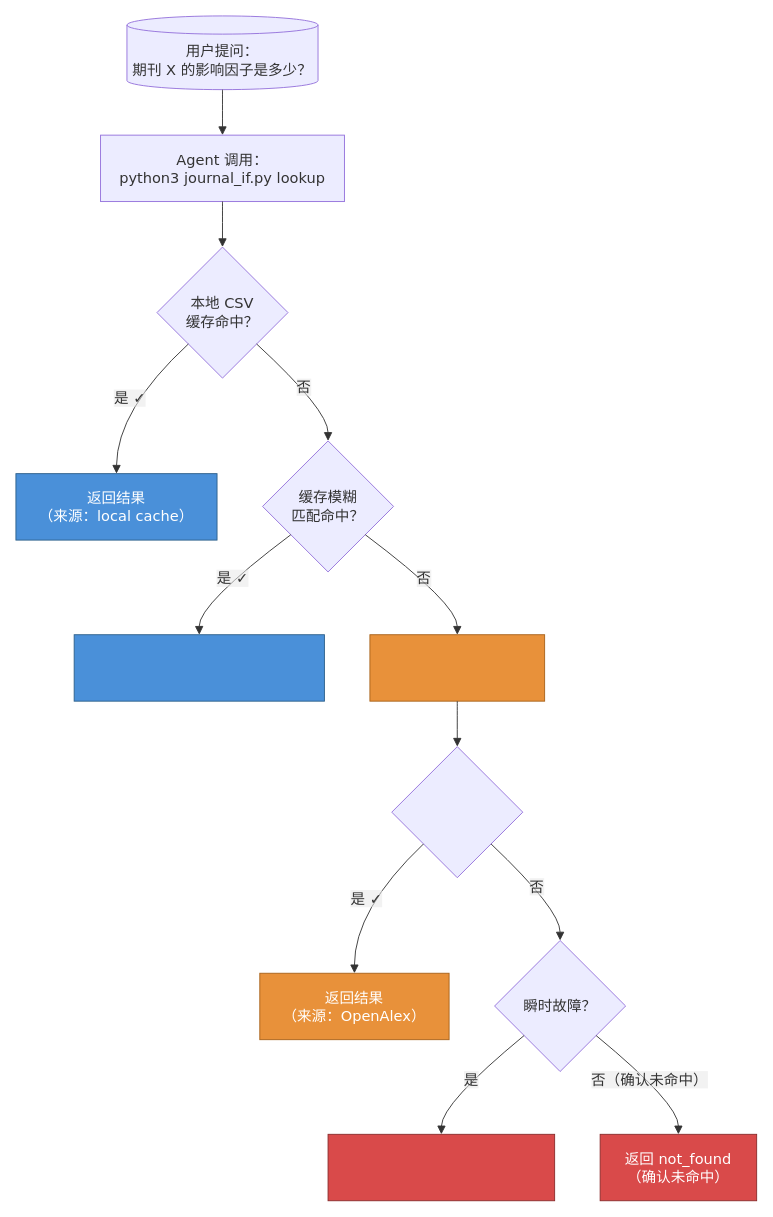
The diagram is 773 pixels wide and 1217 high, and some of its shapes have lost their labels. The shapes that lost their labels are listed below. From the top down, each one's centre as x and y in pixels, then its label:
At point 198,667: "返回结果 （来源：local cache (fuzzy)）".
At point 457,667: "查询 OpenAlex API （近似 2 年 IF）".
At point 457,812: "OpenAlex 是否成功？".
At point 441,1167: "抛出 UpstreamUnavailable （可重试）".
